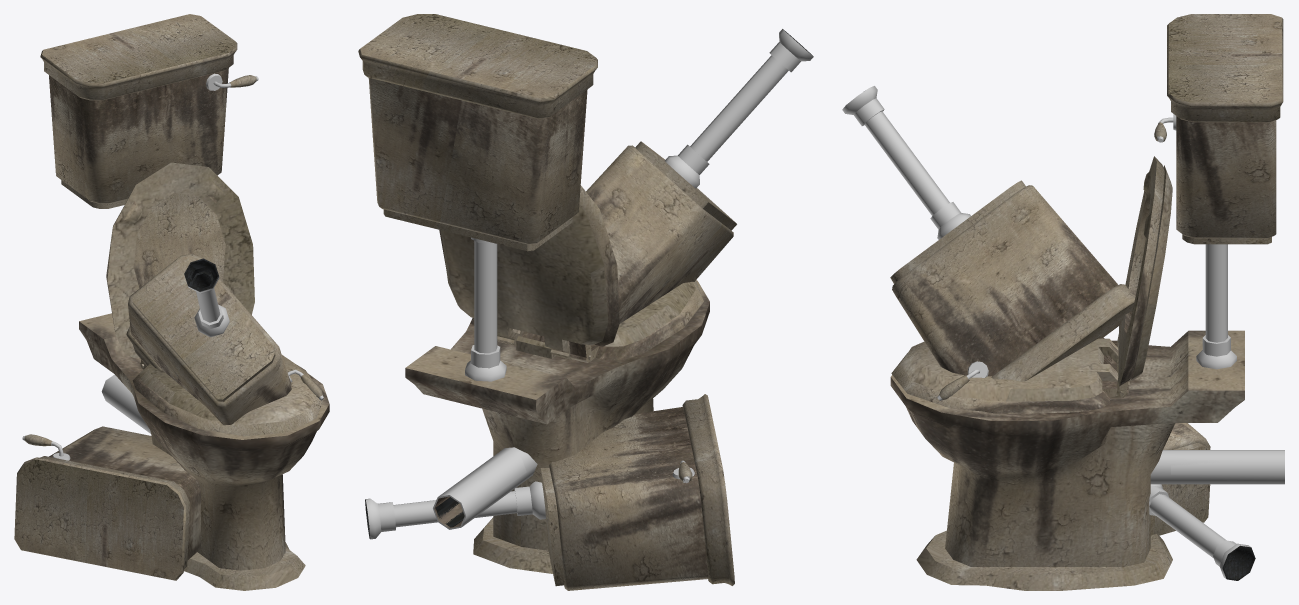
File: Obj_Toilets.FBX
3 views of the same model, side by side, from view 1: azimuth 30°, elevation 25°; view 2: azimuth 150°, elevation 25°; view 3: azimuth 270°, elevation 25° (orthographic). The views are drawn at different scales.
Parts seen in each view (by area): view 1: Obj_Toilet_Closed, Obj_Toilet_Broken, Obj_Toilet_Floater, Obj_Toilet_LidUp; view 2: Obj_Toilet_Closed, Obj_Toilet_Broken, Obj_Toilet_Floater, Obj_Toilet_LidUp; view 3: Obj_Toilet_Closed, Obj_Toilet_Floater, Obj_Toilet_Broken, Obj_Toilet_LidUp.
Boxes of the visible parts, x1,y1,x2,y2 form: Obj_Toilet_Closed: [40, 14, 329, 590]; Obj_Toilet_Broken: [14, 374, 200, 580]; Obj_Toilet_Floater: [126, 254, 323, 425]; Obj_Toilet_LidUp: [106, 162, 254, 369]; Obj_Toilet_Closed: [358, 14, 709, 573]; Obj_Toilet_Broken: [365, 394, 734, 590]; Obj_Toilet_Floater: [586, 29, 813, 326]; Obj_Toilet_LidUp: [439, 185, 619, 362]; Obj_Toilet_Closed: [890, 14, 1284, 590]; Obj_Toilet_Floater: [842, 86, 1135, 413]; Obj_Toilet_Broken: [1149, 423, 1284, 580]; Obj_Toilet_LidUp: [1116, 156, 1172, 398].
Size of the model in its own units: 107 by 171 by 136.
